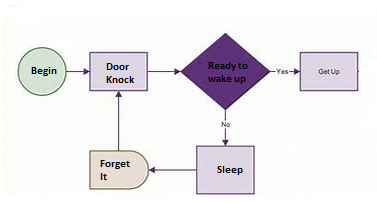arrow: (114, 89, 124, 151), (147, 165, 199, 176), (221, 107, 232, 146), (146, 67, 182, 76), (64, 67, 91, 77), (267, 68, 301, 75)
connection: (16, 45, 68, 97)
decision: (179, 31, 270, 109)
process: (194, 144, 256, 196), (87, 51, 151, 93), (88, 149, 153, 190), (298, 51, 360, 93)
text: (207, 61, 249, 85), (99, 158, 133, 181), (104, 61, 136, 85), (29, 65, 58, 77), (215, 164, 245, 175), (316, 67, 342, 77), (274, 67, 291, 76), (219, 121, 231, 128)
